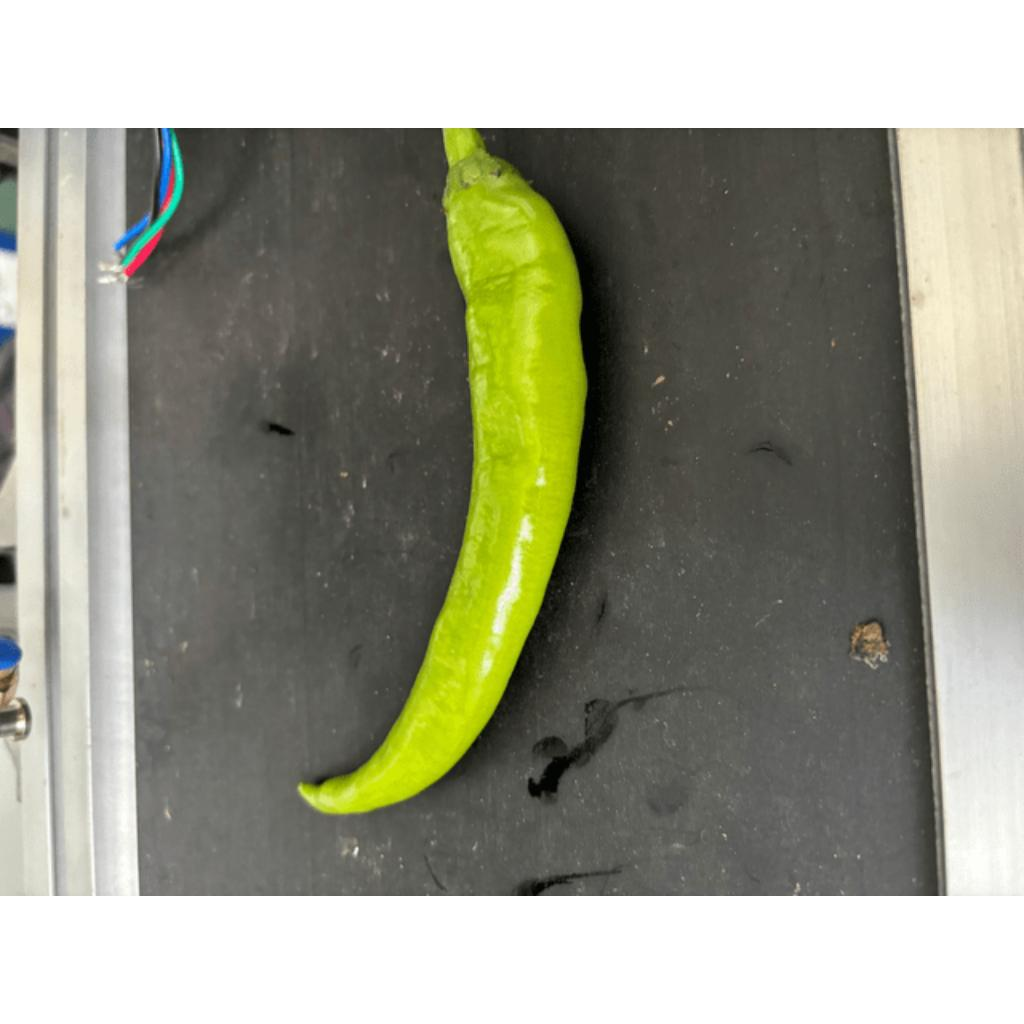chili: (290, 149, 592, 817)
